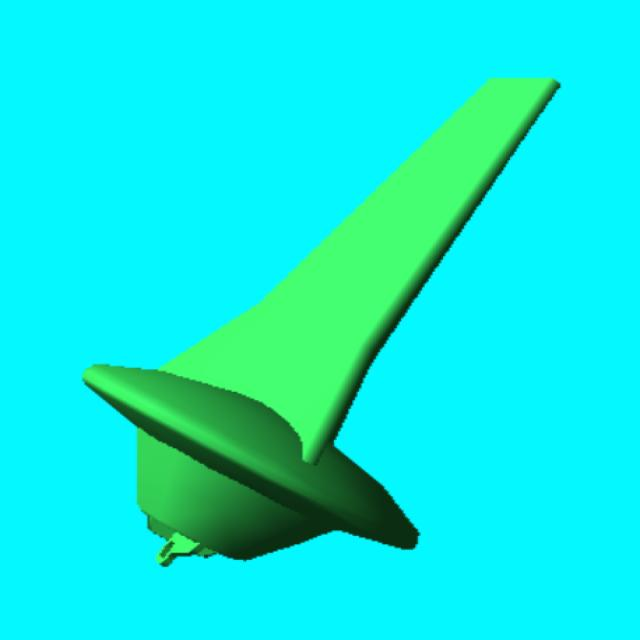GreenBuoy: (84, 79, 558, 564)
